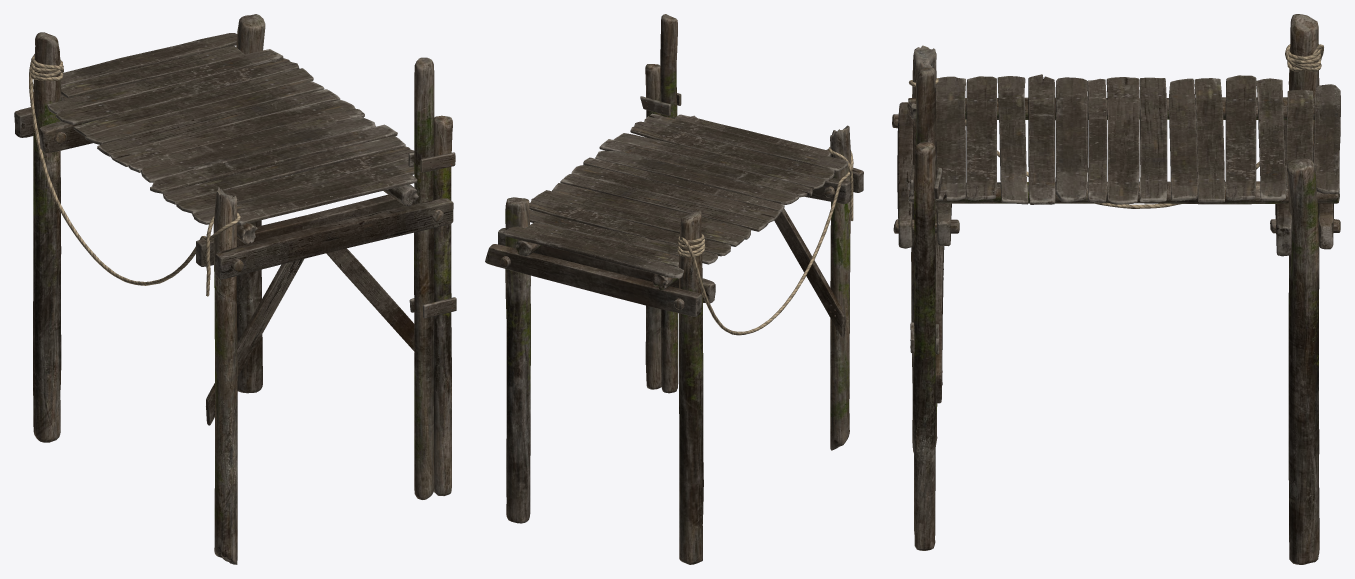
The picture shows the model from 3 angles, left to right: view 1: azimuth 30°, elevation 25°; view 2: azimuth 150°, elevation 25°; view 3: azimuth 270°, elevation 25°; orthographic projection. The views are drawn at different scales.
Visible parts, largest first — view 1: modular_wooden_pier_kit__c_lod0; view 2: modular_wooden_pier_kit__c_lod0; view 3: modular_wooden_pier_kit__c_lod0.
Part boxes in pixels (x1=…): modular_wooden_pier_kit__c_lod0: x1=14, y1=14, x2=456, y2=564; modular_wooden_pier_kit__c_lod0: x1=485, y1=14, x2=863, y2=564; modular_wooden_pier_kit__c_lod0: x1=892, y1=14, x2=1340, y2=564.
Size of the model in its own units: 2.49 by 4.27 by 3.52.
2 materials, 2 textured.
